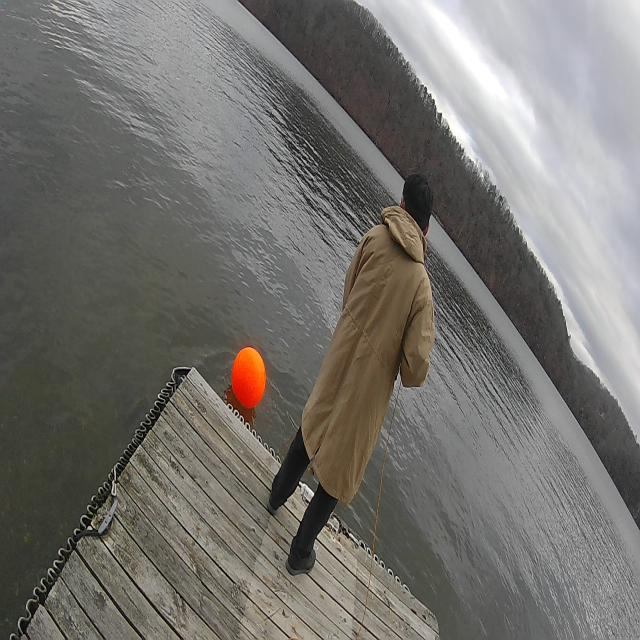Buoy: (229, 343, 269, 419)
